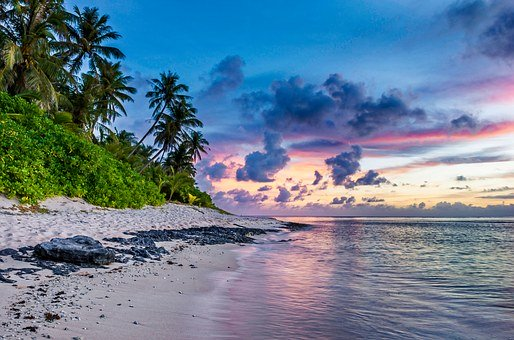beach: (17, 210, 506, 340)
mountain: (9, 8, 199, 196)
sky: (177, 10, 508, 210)
